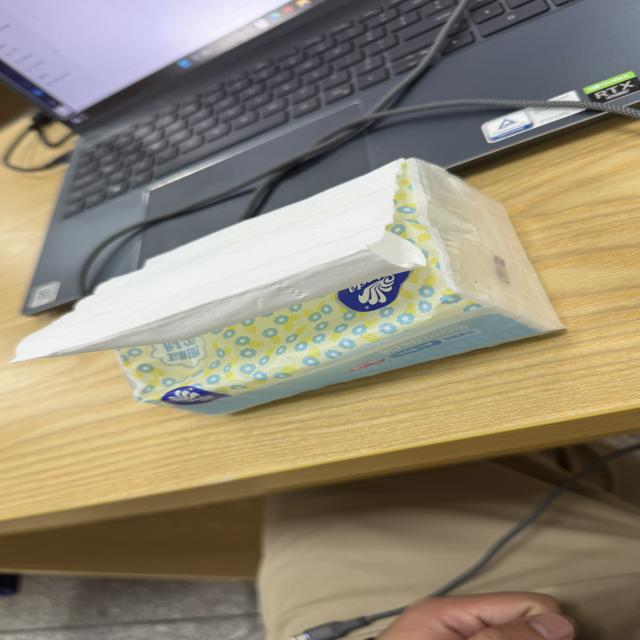tissue: (17, 160, 562, 414), (119, 160, 562, 414), (14, 161, 425, 362)
